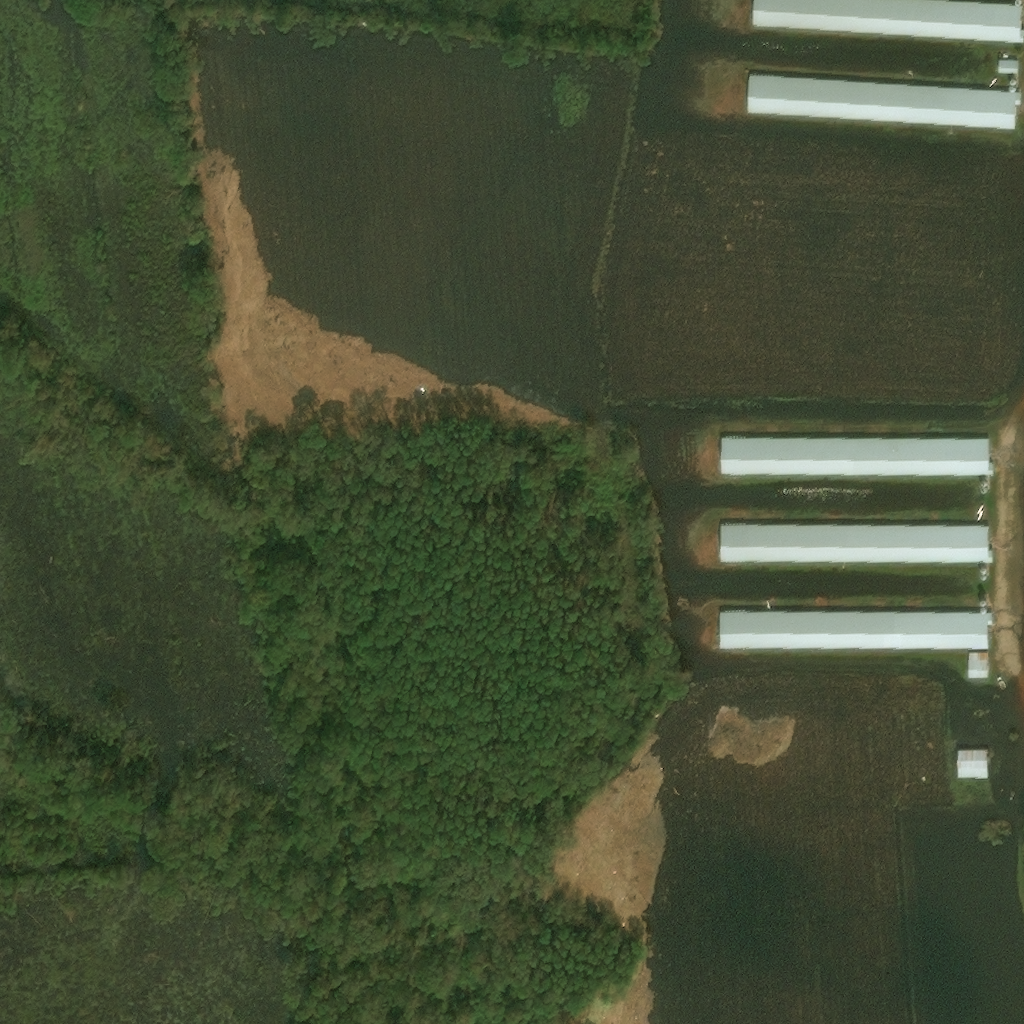minor_damage: (742, 75, 1014, 129), (748, 0, 1022, 42), (714, 609, 989, 647), (714, 524, 990, 560), (716, 437, 991, 473), (954, 748, 987, 778), (965, 651, 987, 676), (996, 59, 1018, 73), (976, 602, 985, 609), (975, 595, 984, 601), (976, 563, 984, 569), (977, 570, 984, 576), (1006, 75, 1013, 81), (977, 476, 983, 482), (977, 483, 984, 488), (1012, 0, 1019, 4)
